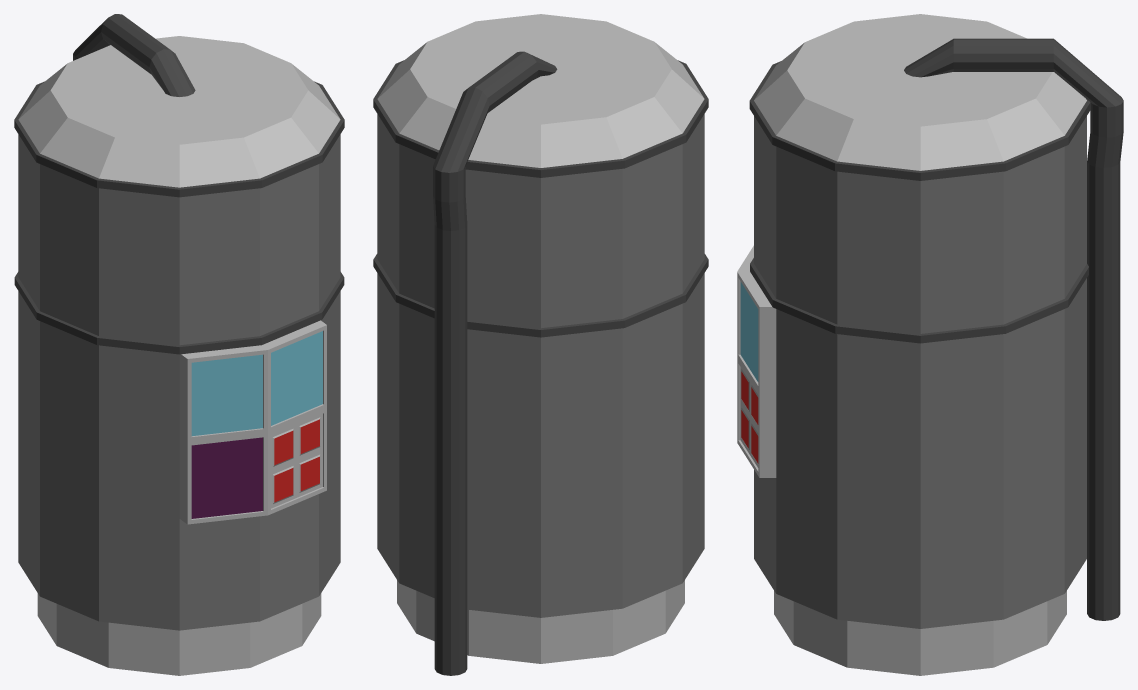
File: Silo 1.fbx
3 views of the same model, side by side, from view 1: azimuth 30°, elevation 25°; view 2: azimuth 150°, elevation 25°; view 3: azimuth 270°, elevation 25° (orthographic). The views are drawn at different scales.
Visible parts, largest first — view 1: Silo 1; view 2: Silo 1; view 3: Silo 1.
Boxes of the visible parts, x1,y1,x2,y2 form: Silo 1: (14, 14, 344, 675); Silo 1: (373, 14, 708, 675); Silo 1: (737, 14, 1123, 675).
Bounding box in the file's own units: 10.26 × 19 × 11.6.
